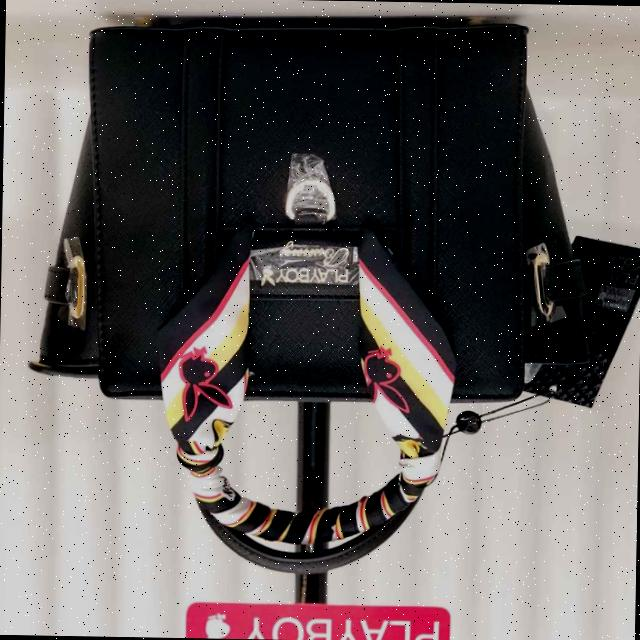Handbag: (23, 0, 640, 460)
